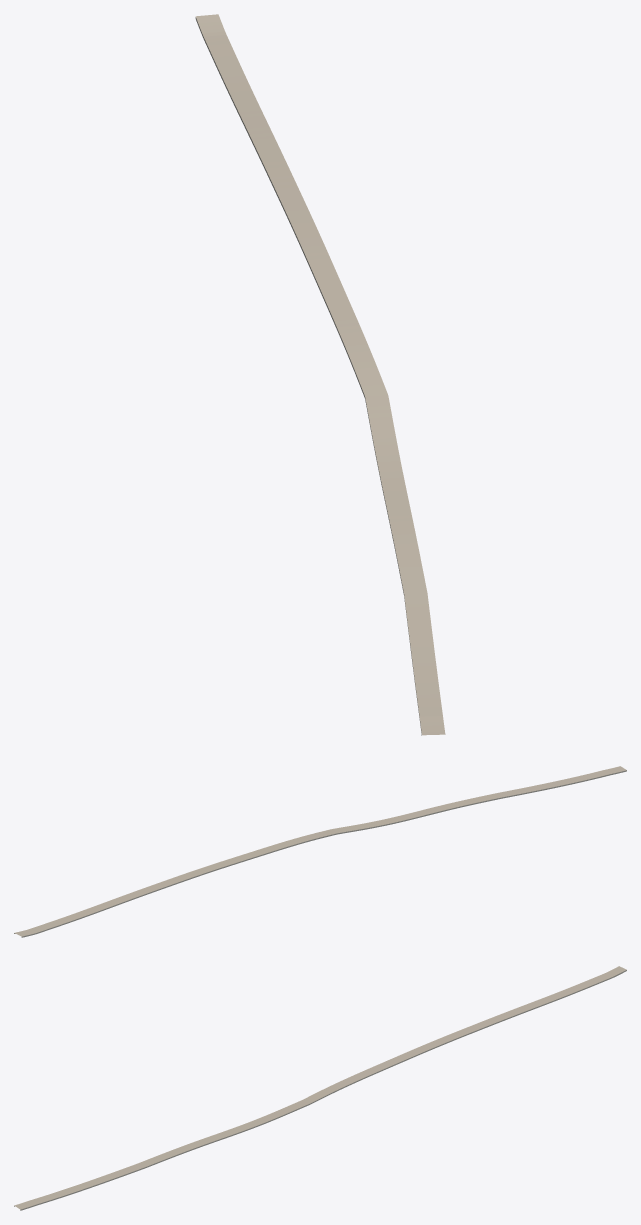
Rendered from SM_Road_to_ra.fbx.
3 renders of one model, top to bottom at view 1: azimuth 30°, elevation 25°; view 2: azimuth 150°, elevation 25°; view 3: azimuth 330°, elevation 25°, orthographic. The views are drawn at different scales.
Parts seen in each view (by area): view 1: SM_Road_to_ra; view 2: SM_Road_to_ra; view 3: SM_Road_to_ra.
Boxes of the visible parts, box(x1,y1,x2,y2) form: SM_Road_to_ra: box(195, 14, 445, 735); SM_Road_to_ra: box(14, 766, 626, 937); SM_Road_to_ra: box(14, 966, 626, 1210).
Bounding box in the file's own units: 176 × 24.89 × 433.
